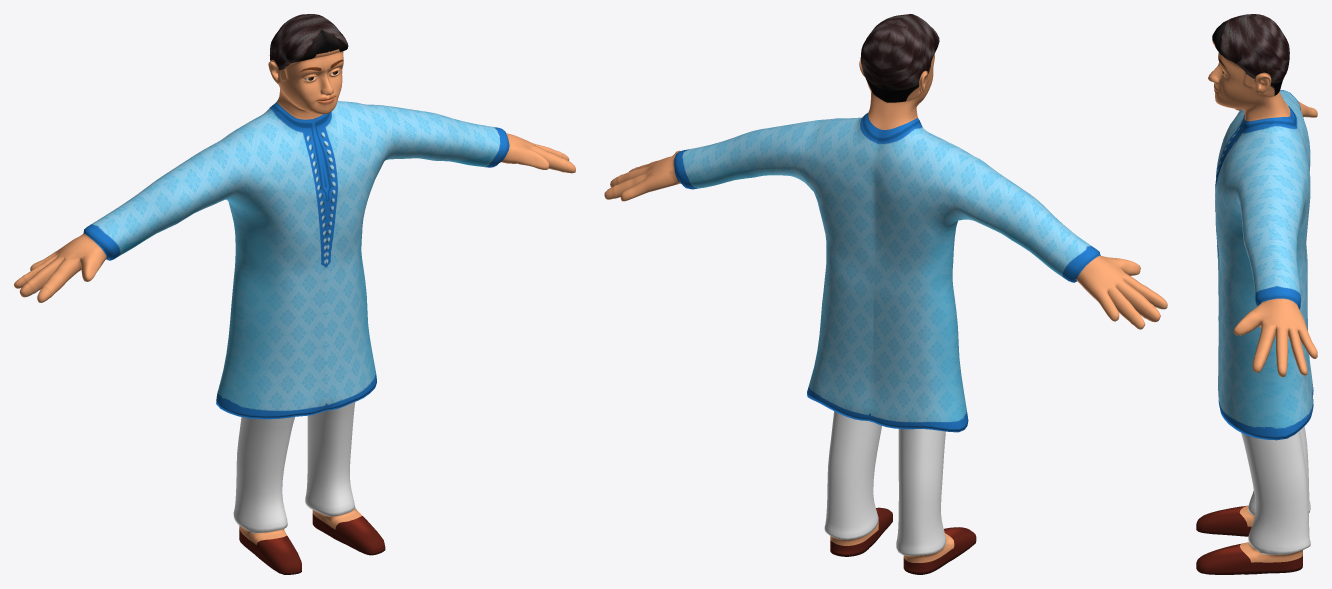
The model's file is Character_.FBX.
3 views of the same model, side by side, from view 1: azimuth 30°, elevation 25°; view 2: azimuth 150°, elevation 25°; view 3: azimuth 270°, elevation 25° (orthographic).
Parts seen in each view (by area): view 1: Line003; view 2: Line003; view 3: Line003.
Part boxes in pixels (left/top/right/bottom): Line003: left=14, top=14, right=575, bottom=574; Line003: left=604, top=14, right=1167, bottom=574; Line003: left=1196, top=14, right=1317, bottom=574.
Size of the model in its own units: 73.11 by 67.22 by 13.93.
